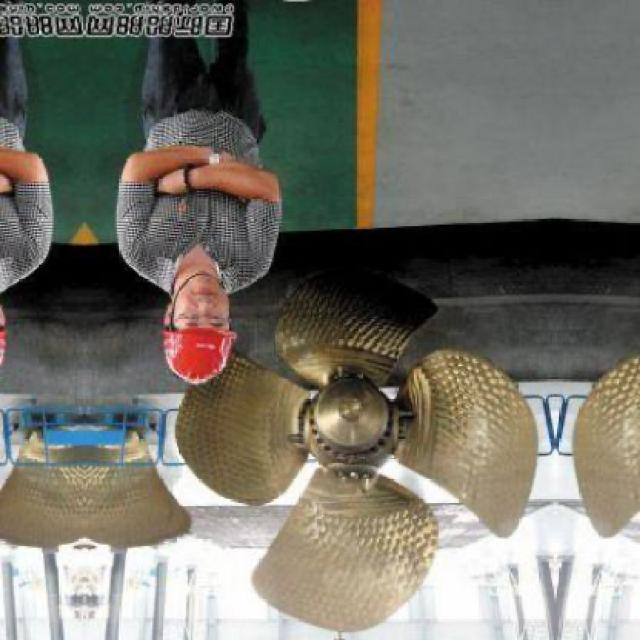con casco: (147, 232, 264, 410)
